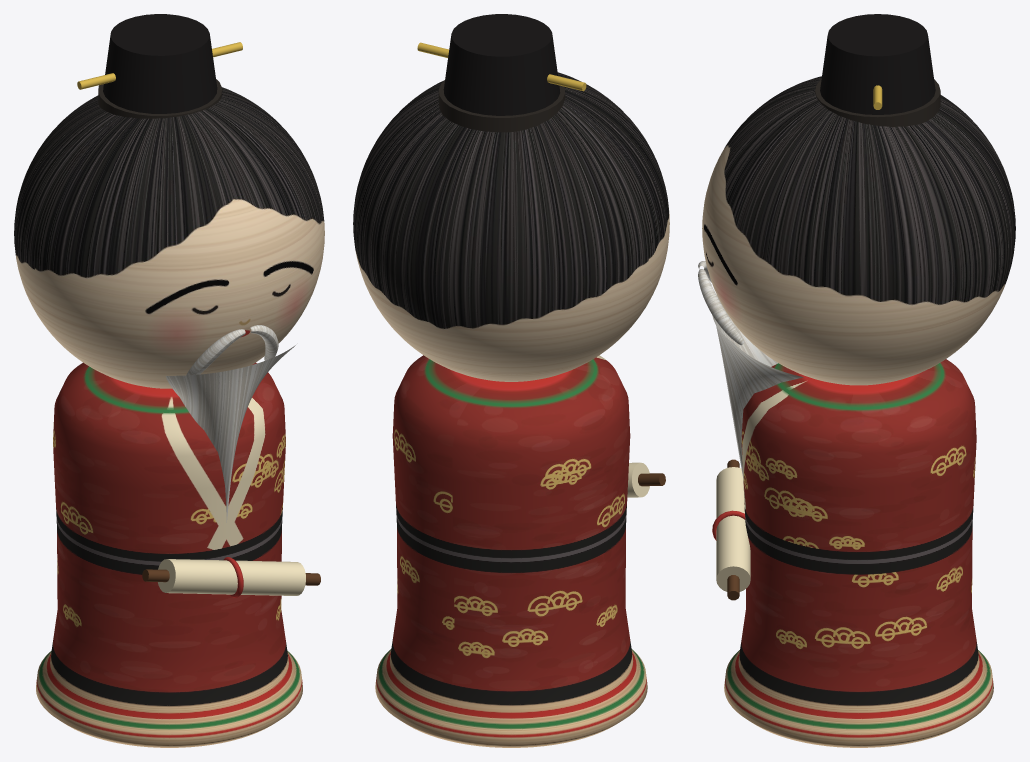
File: confucius.glb
The picture shows the model from 3 angles, left to right: view 1: azimuth 30°, elevation 25°; view 2: azimuth 150°, elevation 25°; view 3: azimuth 270°, elevation 25°; orthographic projection.
Parts seen in each view (by area): view 1: body, head, Confucius; view 2: body, head, Confucius; view 3: body, head, Confucius.
Part boxes in pixels (x1,y1,x2,y2): body: (36, 362, 302, 747); head: (14, 87, 324, 388); Confucius: (77, 14, 320, 597); body: (375, 355, 647, 747); head: (353, 72, 669, 381); Confucius: (417, 14, 665, 497); body: (724, 359, 993, 747); head: (702, 76, 1015, 385); Confucius: (698, 14, 940, 600).
Size of the model in its own units: 0.075 by 0.174 by 0.076.
Materials: 12 (4 with a texture image).
